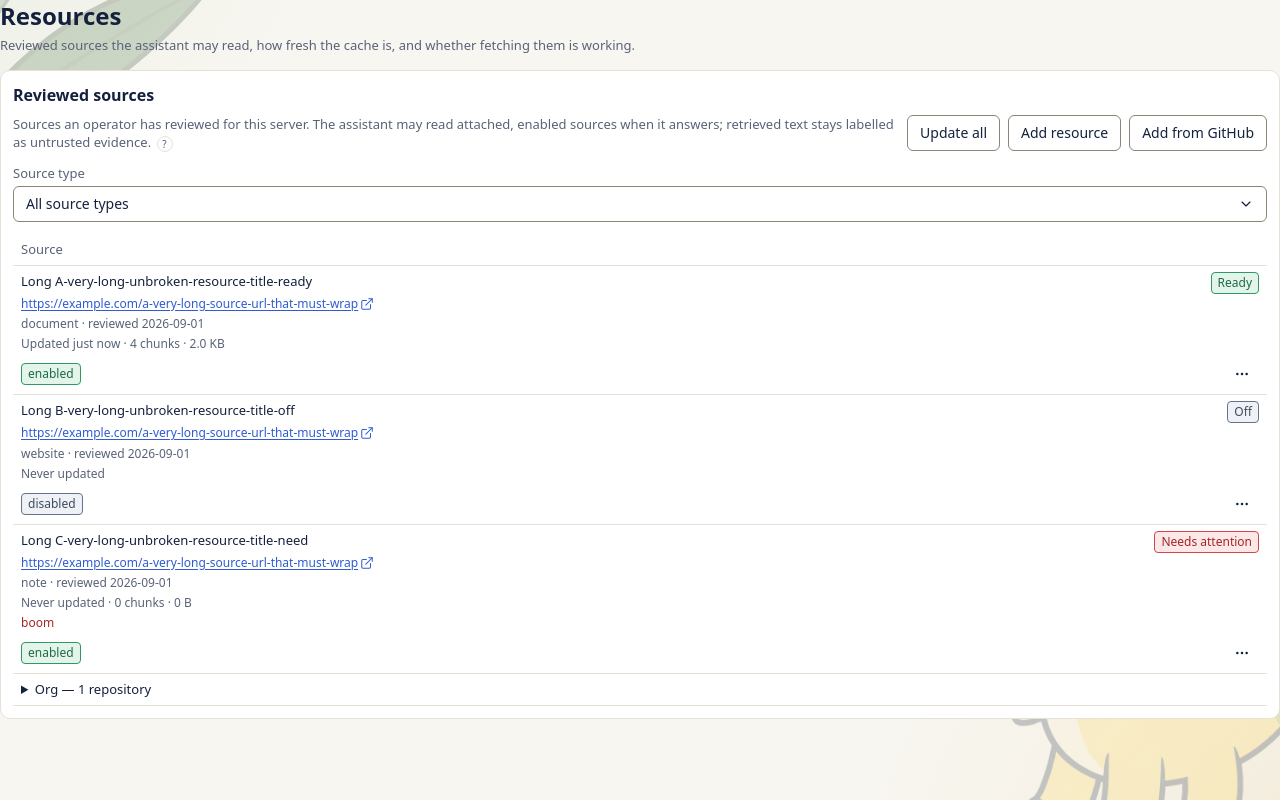
Test: source filter sits in a shrinkable grid cell and keeps every option label
This screenshot has width=1280, height=800.
Expected: the element showing "Source type All source types" is shown, 13,164 -> 1267,222
Click the dropdown at (77, 204), box 13,186 -> 1267,222
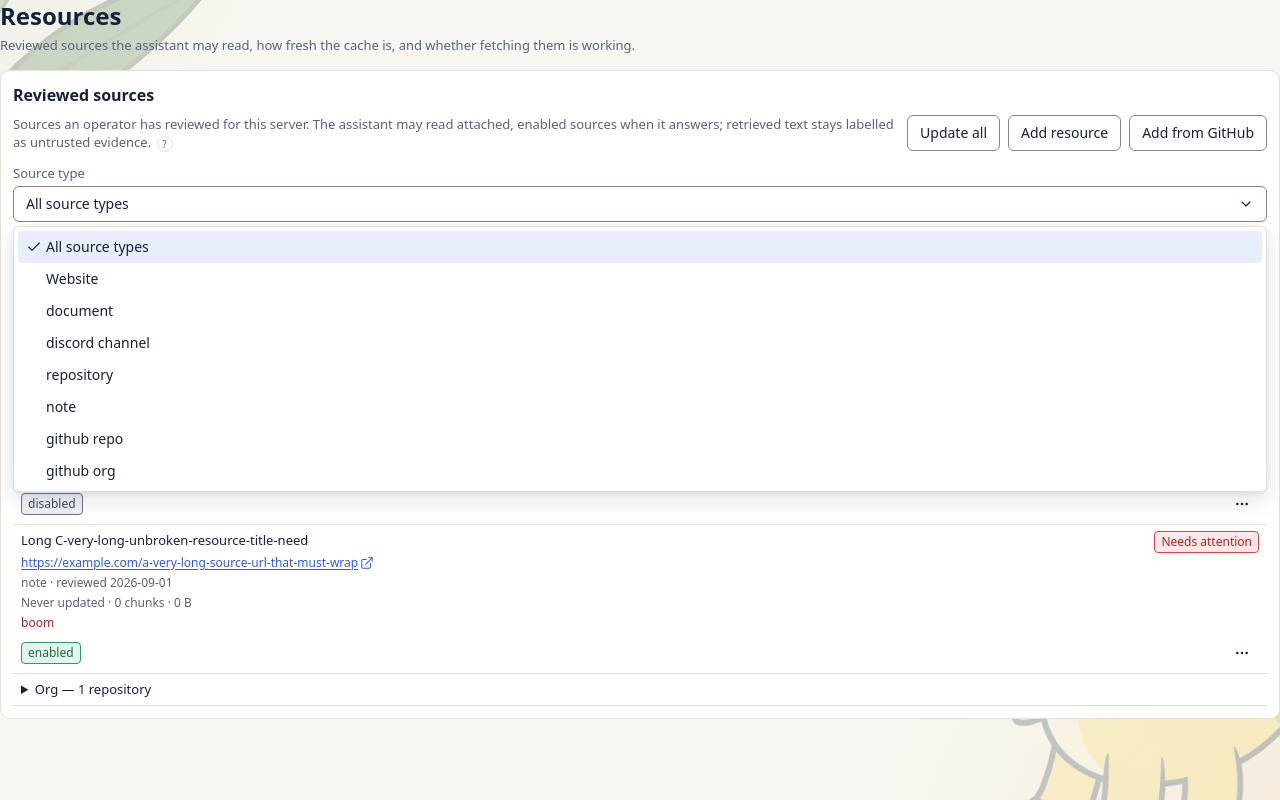
Result: the option "All source types" is shown at 18,231 -> 1262,263
Result: the option "github repo" is shown at 46,429 -> 123,448
